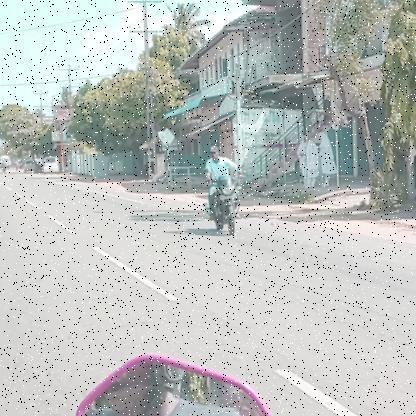motorcycle: (202, 173, 246, 236)
